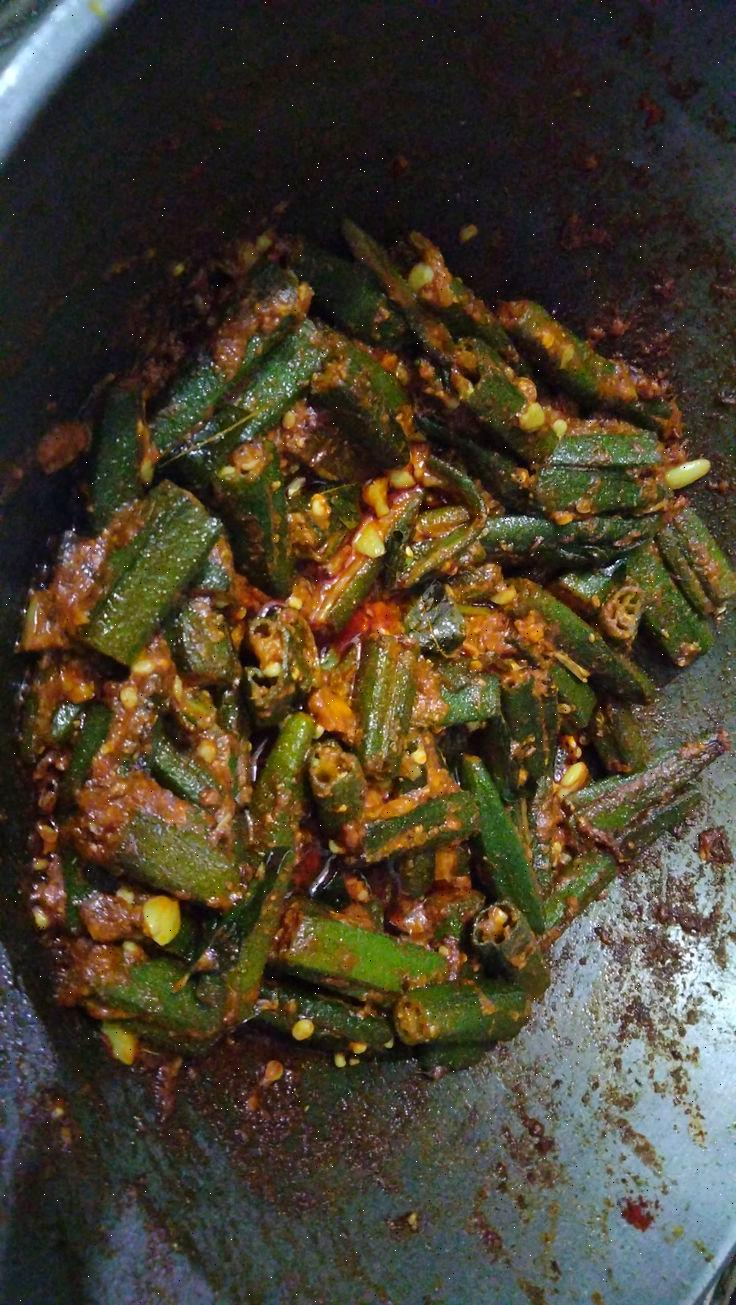bhindi: (172, 217, 648, 1046)
